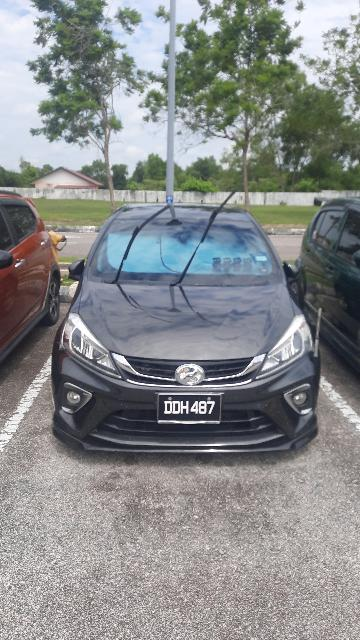License_Plate: (147, 386, 223, 432)
car: (50, 197, 327, 466)
